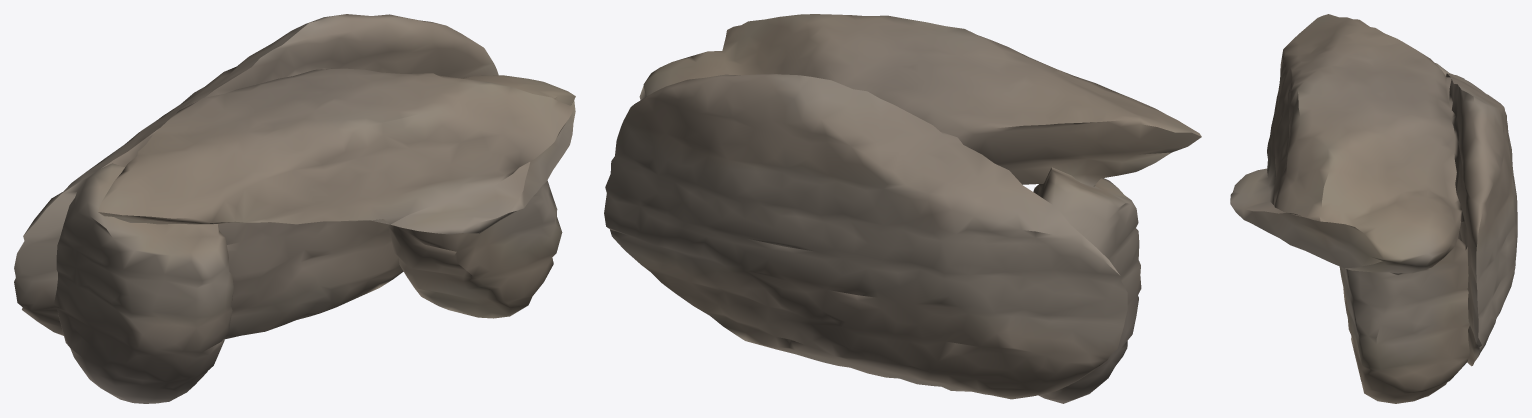
File: cave_ledge.56c95745.glb
The picture shows the model from 3 angles, left to right: view 1: azimuth 30°, elevation 25°; view 2: azimuth 150°, elevation 25°; view 3: azimuth 270°, elevation 25°; orthographic projection. The views are drawn at different scales.
Visible parts, largest first — view 1: cave_ledge; view 2: cave_ledge; view 3: cave_ledge.
Part boxes in pixels (x1,y1,x2,y2): cave_ledge: [14, 14, 575, 403]; cave_ledge: [604, 14, 1201, 403]; cave_ledge: [1230, 14, 1517, 403].
Bounding box in the file's own units: 2.42 × 1.32 × 1.37.
